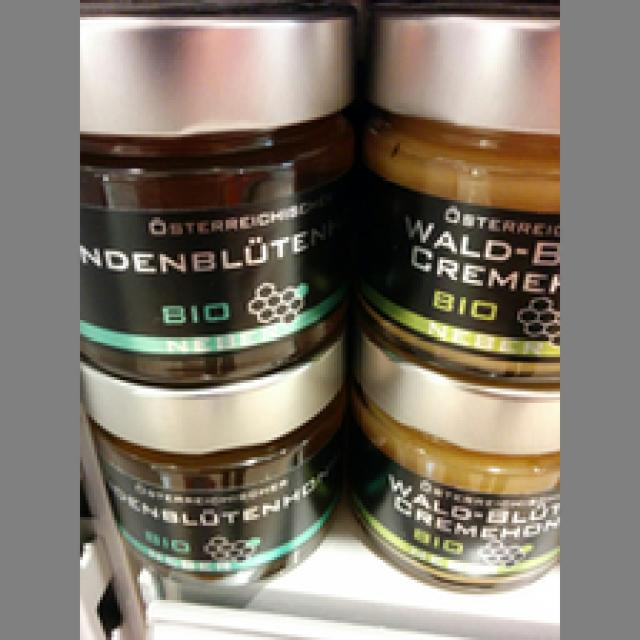groceries: (77, 9, 357, 380), (366, 6, 563, 380), (68, 337, 352, 566), (351, 326, 563, 597)
